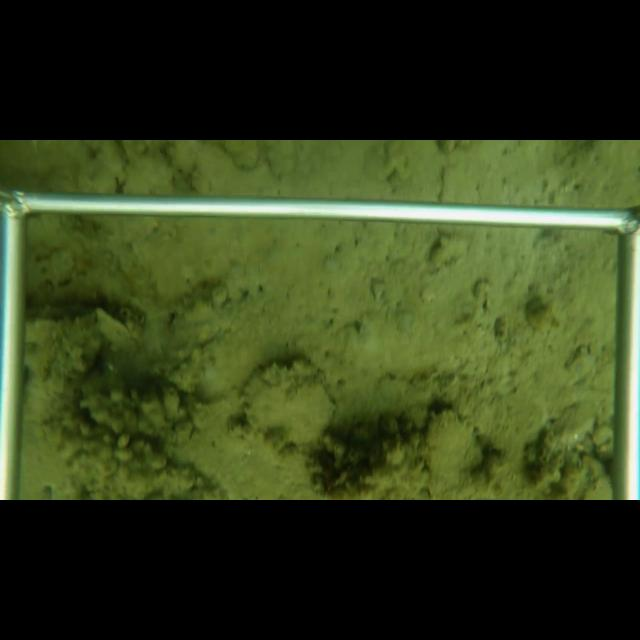Oyster-Closed: (239, 358, 339, 446), (420, 406, 484, 500)
